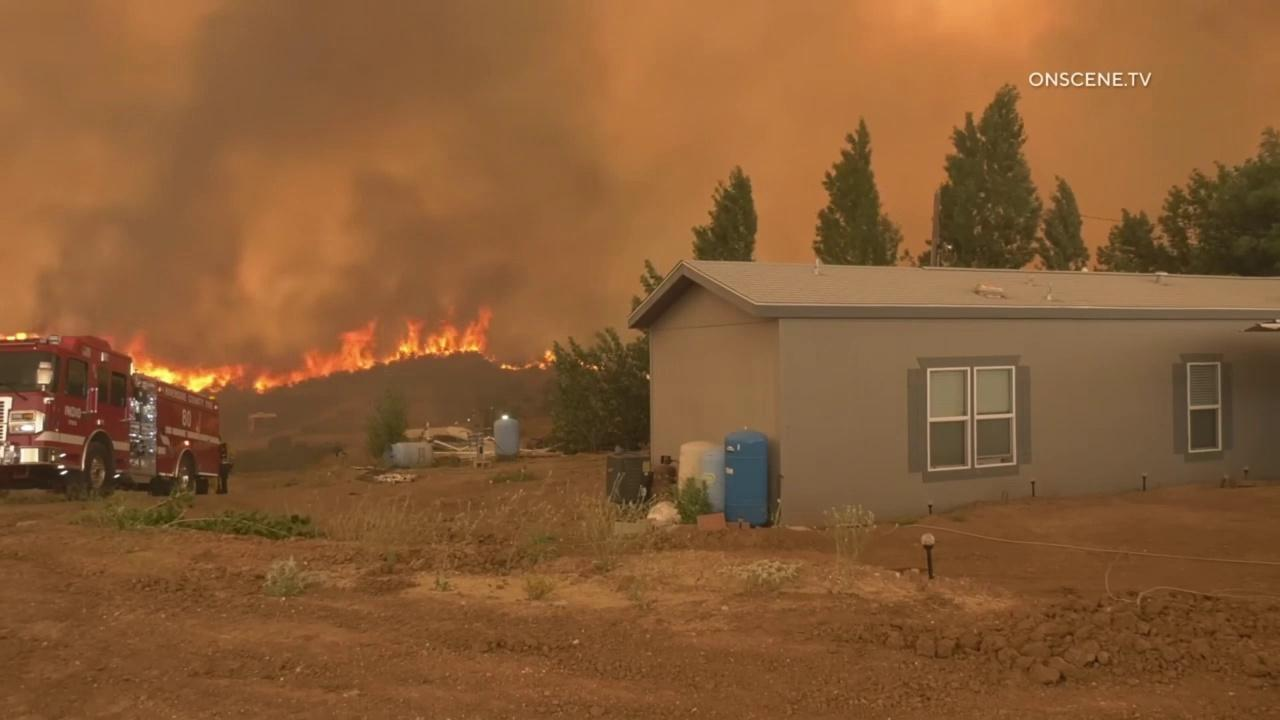fire: (105, 304, 494, 393), (499, 348, 558, 372), (586, 364, 598, 371), (577, 360, 584, 365)
smoke: (0, 0, 1280, 333)
